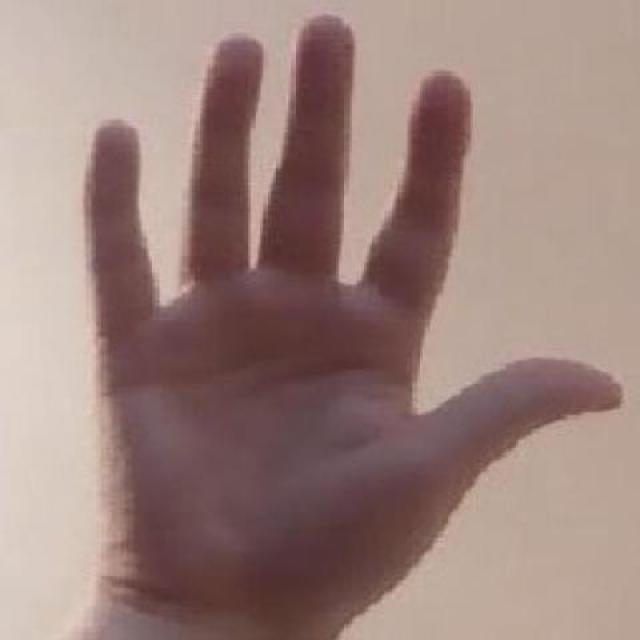Open Hand: (68, 8, 625, 640)
